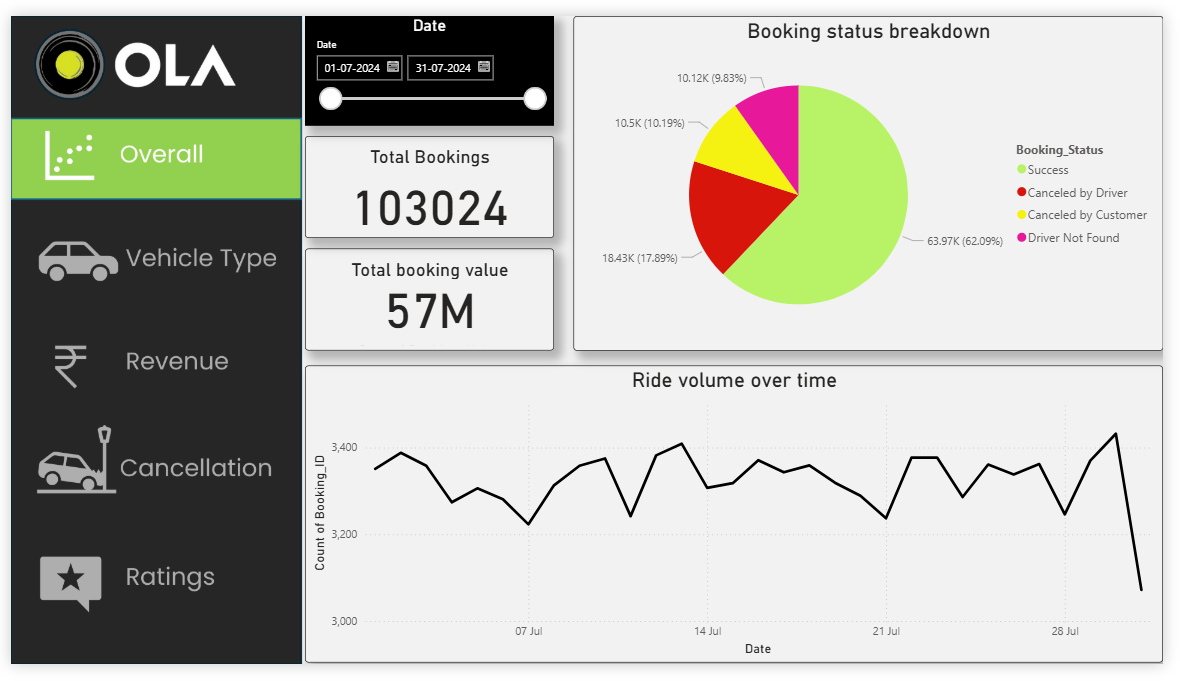

The dashboard page shown, as its layout file describes it:
{"tool":"powerbi","page":{"name":"overall","canvas":[1280,720],"ordinal":0},"visuals":[{"type":"actionButton","box":[0,227.2,326.5,87.7],"z":0},{"type":"actionButton","box":[0,343.7,326.5,87.7],"z":1000},{"type":"actionButton","box":[0,450.1,326.5,87.7],"z":2000},{"type":"actionButton","box":[0,588.2,326.5,87.7],"z":3000},{"type":"lineChart","title":"Ride volume over time","fields":{"Y":["CountNonNull(July.Booking_ID)"],"Category":["July.Date"]},"box":[326.7,388.3,953.3,330],"z":4000},{"type":"pieChart","title":"Booking status breakdown","fields":{"Y":["CountNonNull(July.Booking_ID)"],"Category":["July.Booking_Status"]},"box":[625,0,655,371.7],"z":5000},{"type":"card","title":"Total Bookings","fields":{"Values":["CountNonNull(July.Booking_ID)"]},"box":[326.7,133.3,276.7,113.3],"z":6000},{"type":"card","title":"Total booking value","fields":{"Values":["Sum(July.Booking_Value)"]},"box":[326.7,258.3,276.7,113.3],"z":7000},{"type":"slicer","title":"Date","fields":{"Values":["July.Date"]},"box":[326.7,0,276.7,121.7],"z":8000}]}

Visuals, with their boxes in screenshot pixels (x1, y1, x2, y2), scaled from the page's 1280x720 canvas onto the 1180x681 screenshot:
actionButton: BBox(0, 215, 301, 298)
actionButton: BBox(0, 325, 301, 408)
actionButton: BBox(0, 426, 301, 509)
actionButton: BBox(0, 556, 301, 639)
"Ride volume over time" lineChart: BBox(301, 367, 1179, 679)
"Booking status breakdown" pieChart: BBox(576, 0, 1179, 352)
"Total Bookings" card: BBox(301, 126, 556, 233)
"Total booking value" card: BBox(301, 244, 556, 351)
"Date" slicer: BBox(301, 0, 556, 115)
